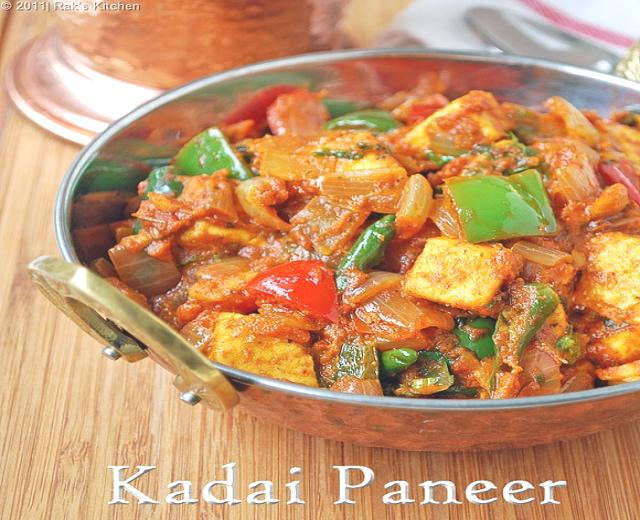kadai paneer: (74, 55, 639, 445)
